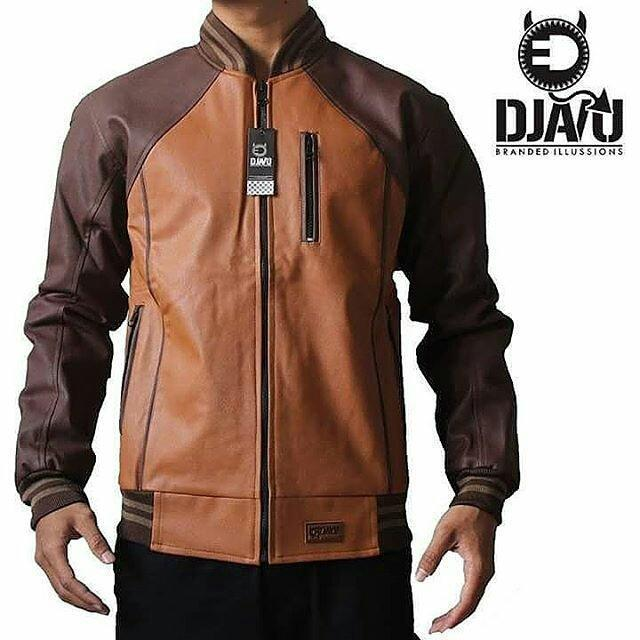jacket: (14, 16, 518, 575)
